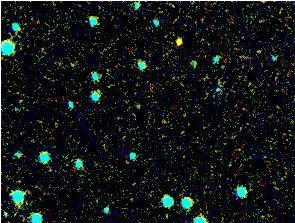star: (160, 22, 190, 52)
